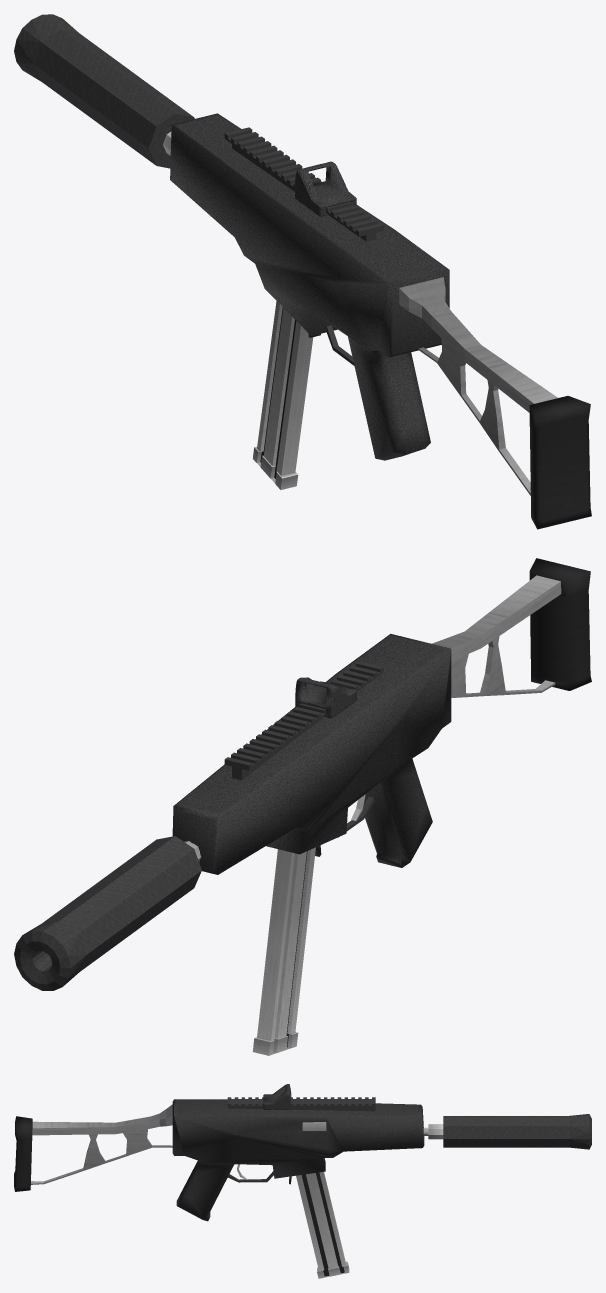
Rendered from gun_ump45s.obj.
The picture shows the model from 3 angles, top to bottom: view 1: azimuth 30°, elevation 25°; view 2: azimuth 150°, elevation 25°; view 3: azimuth 270°, elevation 25°; orthographic projection. The views are drawn at different scales.
Visible parts, largest first — view 1: Plane.001; view 2: Plane.001; view 3: Plane.001.
Part boxes in pixels (<box>): Plane.001: <box>14,14,591,529</box>; Plane.001: <box>14,558,591,1055</box>; Plane.001: <box>14,1084,591,1278</box>.
Size of the model in its own units: 0.0624 by 0.335 by 0.9326.
